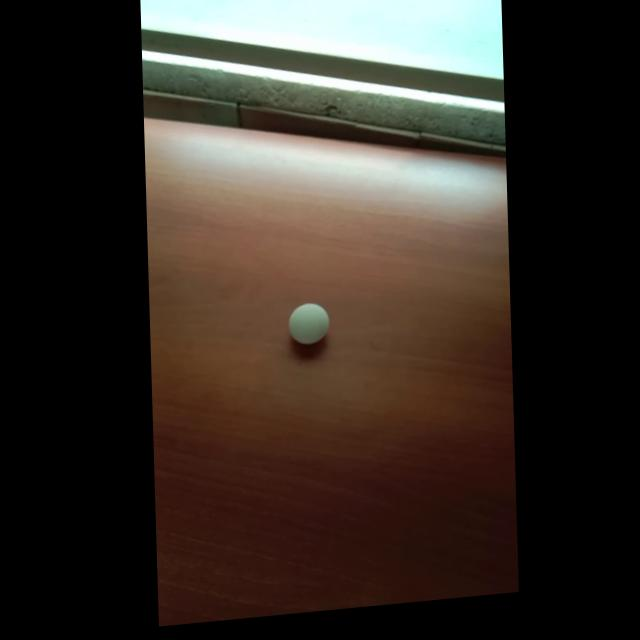white ball: (287, 300, 330, 346)
